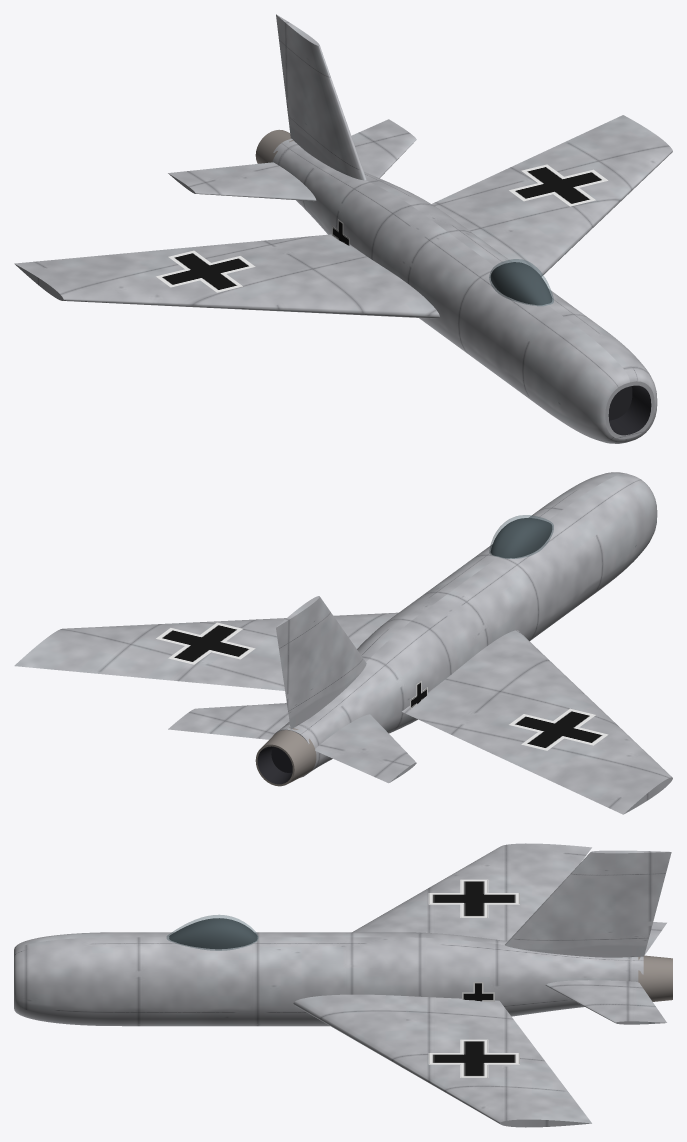
3 views of the same model, one above another, from view 1: azimuth 30°, elevation 25°; view 2: azimuth 150°, elevation 25°; view 3: azimuth 270°, elevation 25° (orthographic). The views are drawn at different scales.
Parts seen in each view (by area): view 1: Fuselage, Wing0_R, Wing0_L, Fin2, Htail1_R, Intake, Htail1_L, Decal_Wing_U_L, Decal_Wing_U_R, Canopy, Cockpit, Nozzle; view 2: Fuselage, Wing0_R, Wing0_L, Fin2, Htail1_R, Htail1_L, Nozzle, Decal_Wing_U_L, Decal_Wing_U_R, Canopy, Cockpit; view 3: Fuselage, Wing0_L, Fin2, Wing0_R, Htail1_L, Canopy, Cockpit, Decal_Wing_U_L, Decal_Wing_U_R, Nozzle.
Boxes of the visible parts, x1,y1,x2,y2 form: Fuselage: [272, 138, 657, 443]; Wing0_R: [14, 234, 439, 318]; Wing0_L: [432, 115, 672, 276]; Fin2: [276, 14, 366, 180]; Htail1_R: [168, 162, 316, 201]; Intake: [605, 381, 654, 439]; Htail1_L: [351, 119, 416, 178]; Decal_Wing_U_L: [509, 164, 608, 206]; Decal_Wing_U_R: [156, 250, 255, 292]; Canopy: [489, 259, 553, 305]; Cockpit: [490, 262, 552, 305]; Nozzle: [255, 129, 293, 163]; Fuselage: [275, 472, 657, 777]; Wing0_R: [402, 630, 672, 814]; Wing0_L: [14, 612, 398, 690]; Fin2: [276, 596, 366, 729]; Htail1_R: [315, 714, 416, 783]; Htail1_L: [168, 703, 289, 739]; Nozzle: [255, 727, 316, 786]; Decal_Wing_U_L: [156, 622, 255, 664]; Decal_Wing_U_R: [509, 708, 608, 750]; Canopy: [489, 515, 553, 558]; Cockpit: [490, 518, 552, 558]; Fuselage: [14, 932, 643, 1026]; Wing0_L: [293, 994, 591, 1127]; Fin2: [505, 850, 671, 957]; Wing0_R: [352, 843, 591, 941]; Htail1_L: [545, 980, 666, 1024]; Canopy: [167, 915, 258, 950]; Cockpit: [169, 918, 257, 949]; Decal_Wing_U_L: [428, 1039, 519, 1077]; Decal_Wing_U_R: [428, 879, 519, 917]; Nozzle: [638, 955, 672, 1001].
Bounding box in the file's own units: 11.3 × 3.23 × 11.4.
6 materials, 2 textured.
